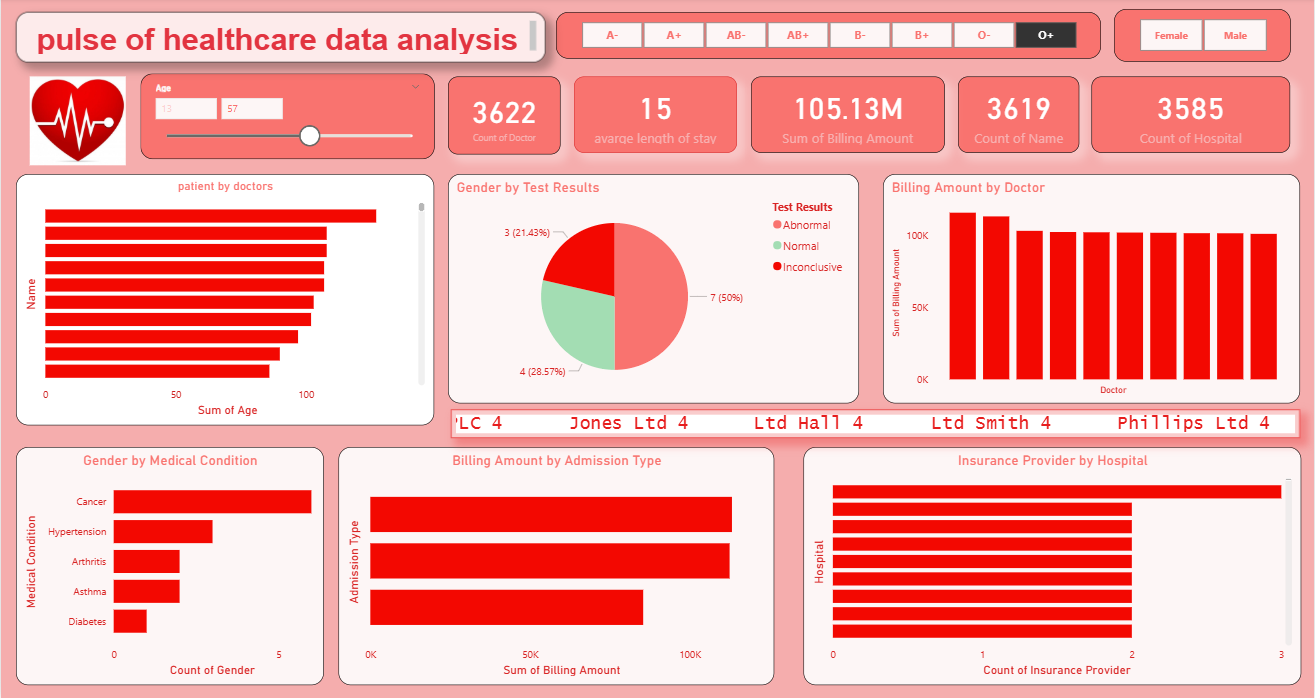

What the dashboard file says about the page in this screenshot:
{"tool":"powerbi","page":{"name":"Page 1","canvas":[1594,854],"ordinal":0},"visuals":[{"type":"slicer","fields":{"Values":["healthcare_dataset.Blood Type"]},"box":[675.4,3.8,664.1,71.7],"z":0},{"type":"slicer","fields":{"Values":["healthcare_dataset.Age"]},"box":[168.8,91.7,337.5,104.2],"z":1000},{"type":"slicer","fields":{"Values":["healthcare_dataset.Gender"]},"box":[1362.2,5.7,232.1,69.8],"z":2000},{"type":"image","box":[0,92.9,150,117.9],"z":3000},{"type":"textbox","box":[18.4,4.1,642.9,71.4],"z":4000},{"type":"barChart","title":"patient by doctors ","fields":{"Y":["healthcare_dataset.Age"],"Category":["healthcare_dataset.Name"]},"box":[18.3,214.8,508.1,305.1],"z":5000},{"type":"barChart","title":"Gender by Medical Condition","fields":{"Category":["healthcare_dataset.Medical Condition"],"Y":["healthcare_dataset.Gender"]},"box":[18.4,546.9,373.5,306.1],"z":6000},{"type":"barChart","title":" Billing Amount by Admission Type","fields":{"Category":["healthcare_dataset.Admission Type"],"Y":["healthcare_dataset.Billing Amount"]},"box":[410.4,545.8,529.2,308.3],"z":7000},{"type":"pieChart","title":"Gender by Test Results","fields":{"Category":["healthcare_dataset.Test Results"],"Y":["healthcare_dataset.Gender"]},"box":[547.9,91.7,500,316.7],"z":8000},{"type":"clusteredColumnChart","title":" Billing Amount by Doctor","fields":{"Category":["healthcare_dataset.Doctor"],"Y":["healthcare_dataset.Billing Amount"]},"box":[1070.8,91.7,508.3,316.7],"z":9000},{"type":"clusteredBarChart","title":" Insurance Provider by Hospital","fields":{"Category":["healthcare_dataset.Hospital"],"Y":["healthcare_dataset.Insurance Provider"]},"box":[973.5,544.9,606.1,310.2],"z":10000},{"type":"card","fields":{"Values":["healthcare_dataset.Name"]},"box":[866.7,277.1,147.9,89.6],"z":11000},{"type":"card","fields":{"Values":["healthcare_dataset.Billing Amount"]},"box":[674.5,726.1,235.2,66.6],"z":12000},{"type":"card","fields":{"Values":["healthcare_dataset.Hospital"]},"box":[1362.5,114.6,195.8,100],"z":13000},{"type":"card","fields":{"Values":["healthcare_dataset.Doctor"]},"box":[359.8,352.3,124.6,93.4],"z":14000},{"type":"ScrollingTextVisual1448795304508","fields":{"Category":["healthcare_dataset.Hospital"],"Measure Absolute":["healthcare_dataset.Name"]},"box":[547.8,425.9,814.8,83.5],"z":15000},{"type":"card","fields":{"Values":["healthcare_dataset.avarge length of stay"]},"box":[1376.3,413.6,202.7,121.9],"z":16000}]}

Visuals, with their boxes in screenshot pixels (x1, y1, x2, y2), scaled from the page's 1594x854 canvas onto the 1315x698 screenshot:
slicer - healthcare_dataset.Blood Type: left=557, top=3, right=1105, bottom=62
slicer - healthcare_dataset.Age: left=139, top=75, right=418, bottom=160
slicer - healthcare_dataset.Gender: left=1124, top=5, right=1314, bottom=62
image: left=0, top=76, right=124, bottom=172
textbox: left=15, top=3, right=546, bottom=62
"patient by doctors " barChart: left=15, top=176, right=434, bottom=425
"Gender by Medical Condition" barChart: left=15, top=447, right=323, bottom=697
" Billing Amount by Admission Type" barChart: left=339, top=446, right=775, bottom=697
"Gender by Test Results" pieChart: left=452, top=75, right=864, bottom=334
" Billing Amount by Doctor" clusteredColumnChart: left=883, top=75, right=1303, bottom=334
" Insurance Provider by Hospital" clusteredBarChart: left=803, top=445, right=1303, bottom=697
card - healthcare_dataset.Name: left=715, top=226, right=837, bottom=300
card - healthcare_dataset.Billing Amount: left=556, top=593, right=750, bottom=648
card - healthcare_dataset.Hospital: left=1124, top=94, right=1286, bottom=175
card - healthcare_dataset.Doctor: left=297, top=288, right=400, bottom=364
ScrollingTextVisual1448795304508 - healthcare_dataset.Hospital x healthcare_dataset.Name: left=452, top=348, right=1124, bottom=416
card - healthcare_dataset.avarge length of stay: left=1135, top=338, right=1303, bottom=438
